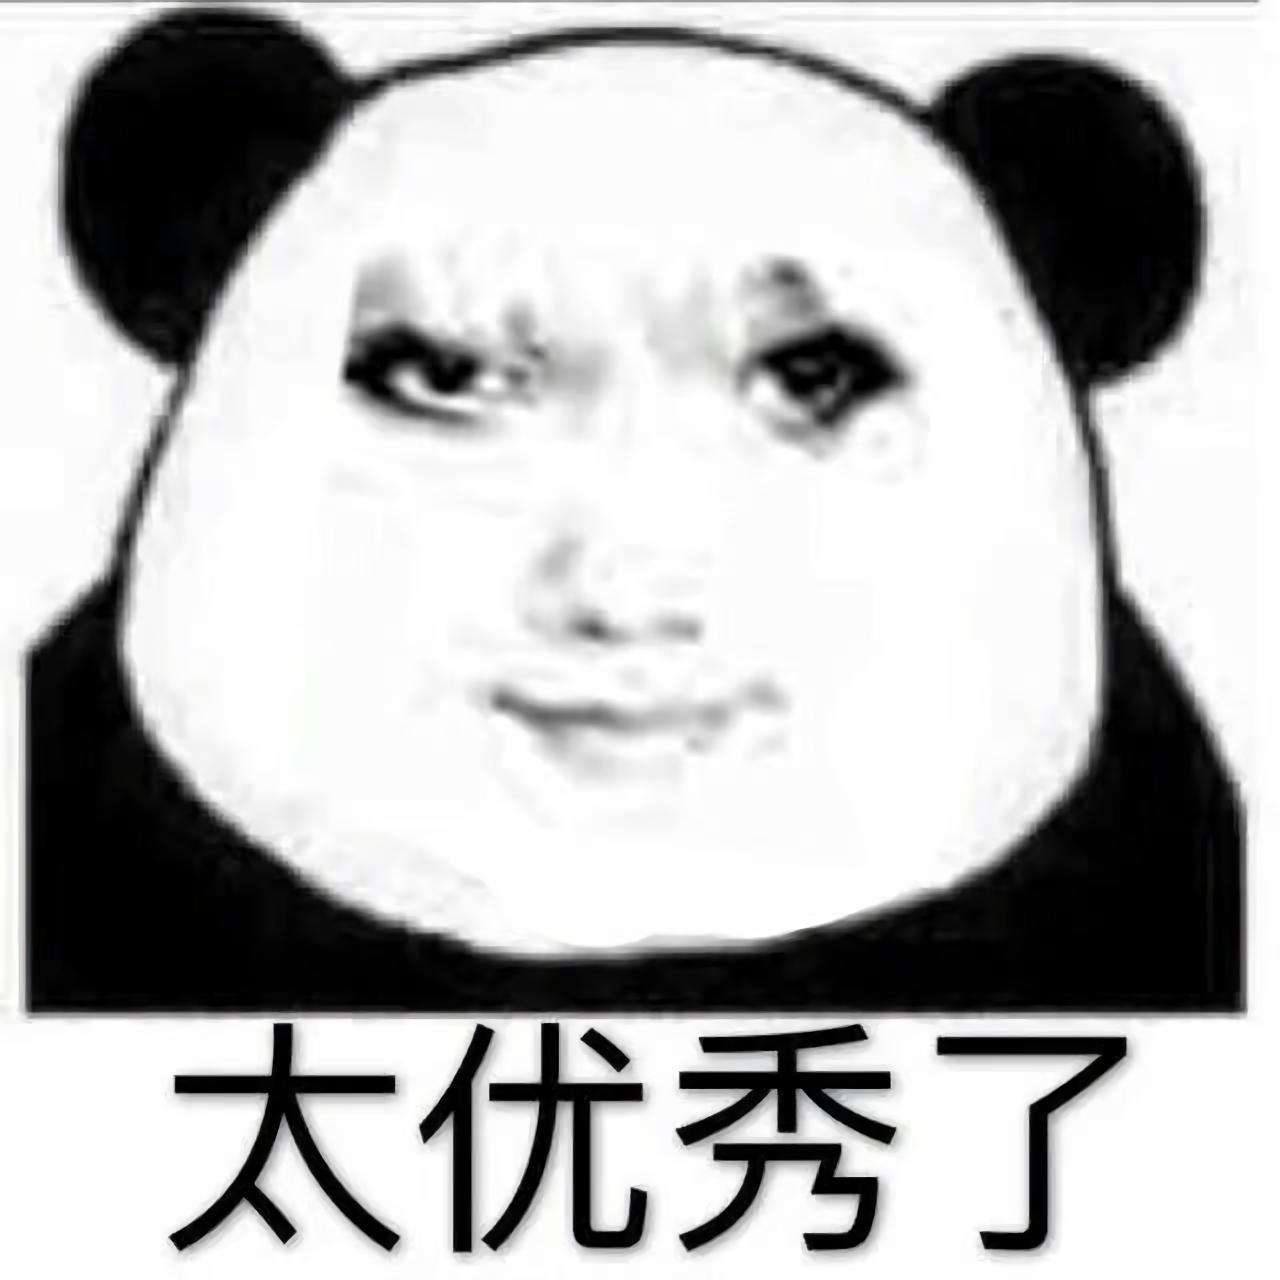dragon: (326, 247, 941, 808)
